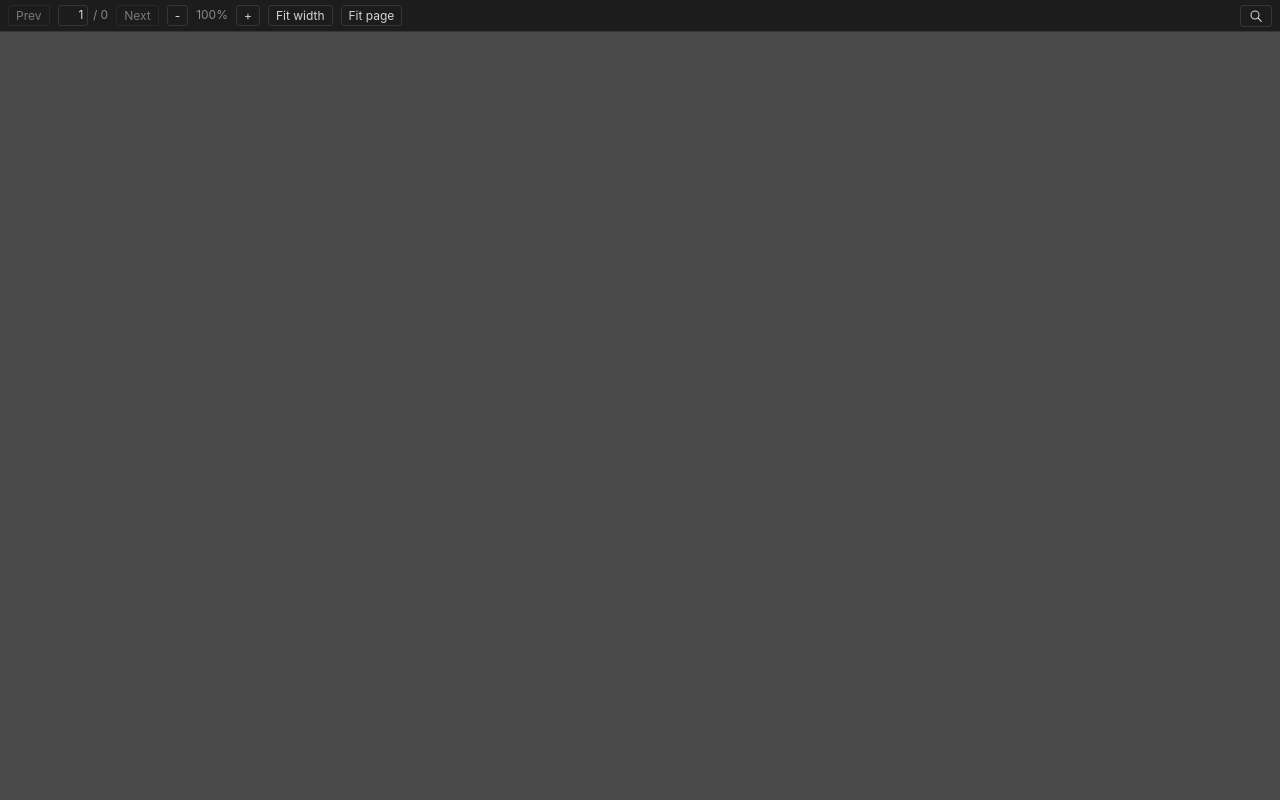
Test case: PdfViewer › reports no results for a query that is not present
Check: the field named "Page number" is shown, box [58,5,88,26]
Click the button named "Find in document" at (1256, 16), box [1240,4,1272,26]
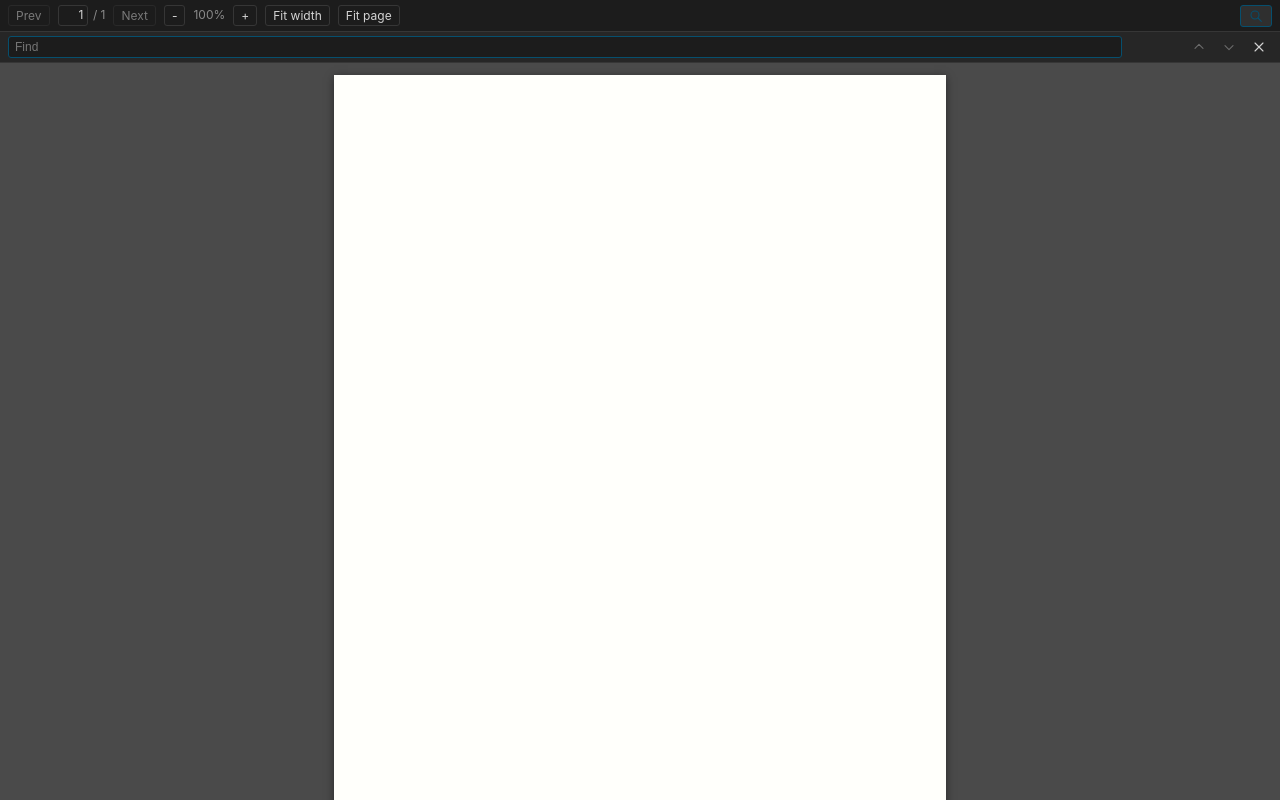
Type "zzz" into the field named "Find in document" at (565, 47), box [8,36,1122,58]
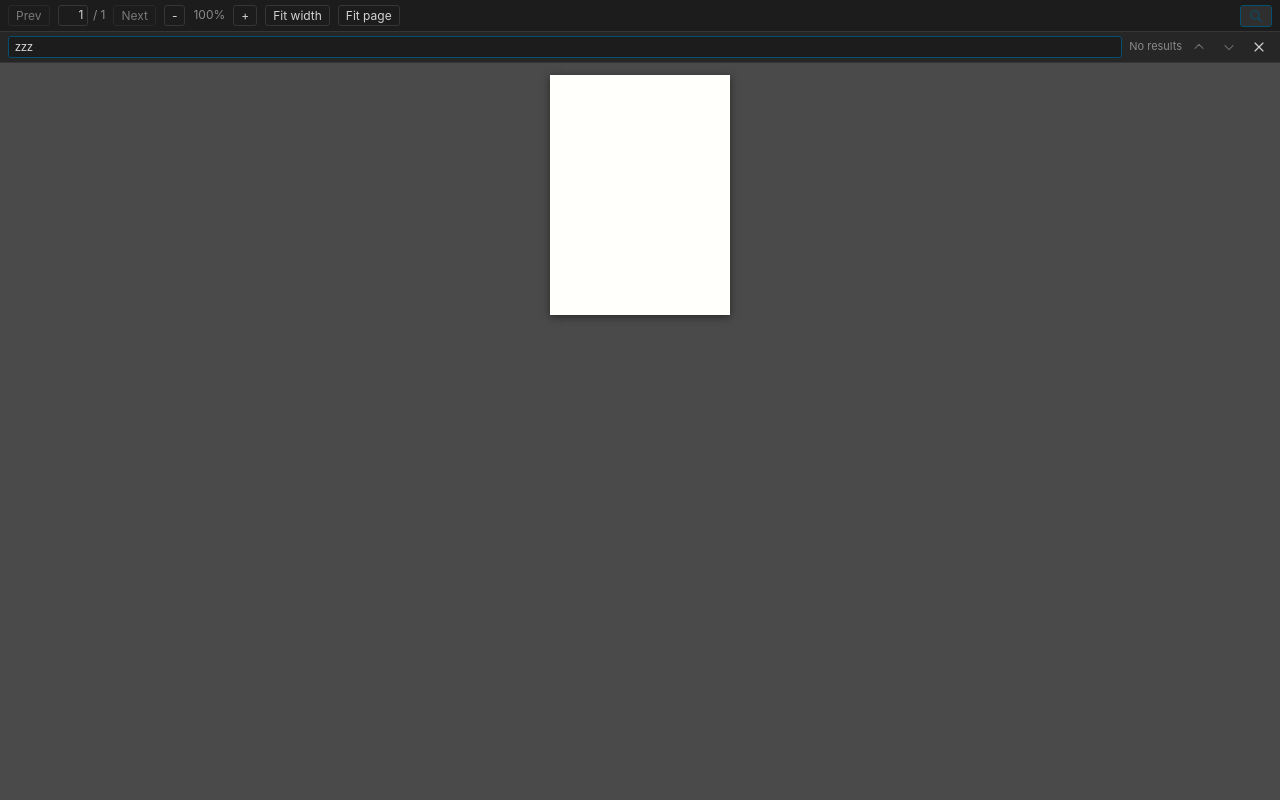
Check: the text "No results" is shown, box [1126,39,1182,55]
